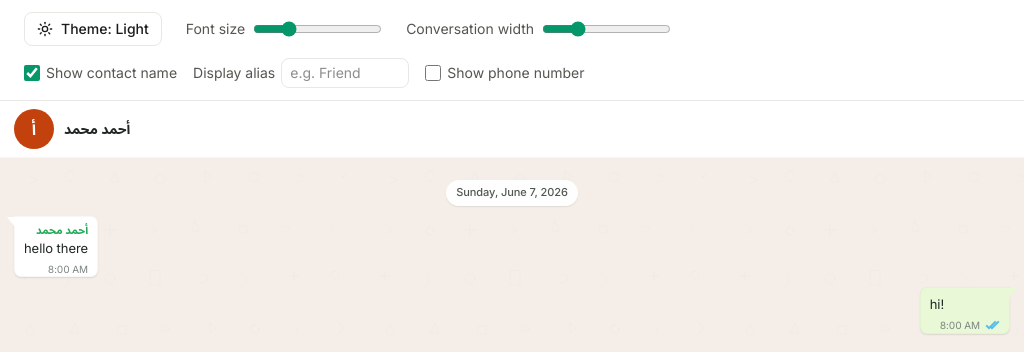
Test case: PreviewToolbar — real-time privacy (US6, FR-020/FR-021) › hides the contact name everywhere immediately, without a re-fetch
The width and height of the screenshot is (1024, 352).
Expected: the text "hello there" is shown, 24,239 -> 88,258
Expected: the 1st text "أحمد محمد" is shown, 64,119 -> 130,139
Click the checkbox labelled "Show contact name" at (32, 73), box 24,65 -> 40,81
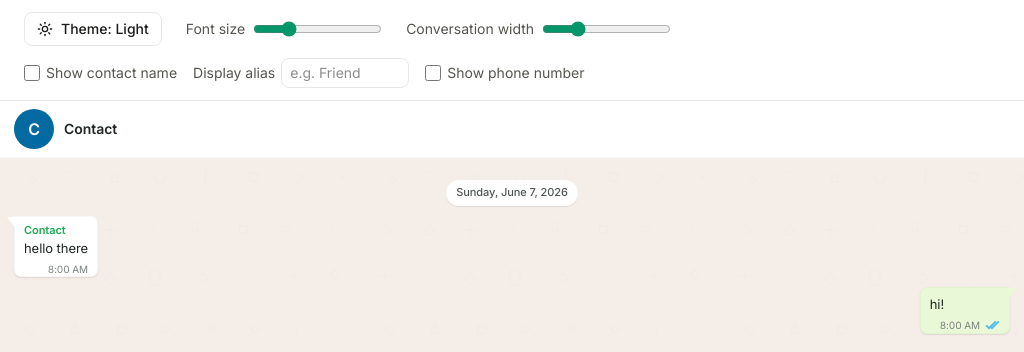
Expected: the text "أحمد محمد" is gone
Expected: the 1st text "Contact" is shown, 64,119 -> 117,139
